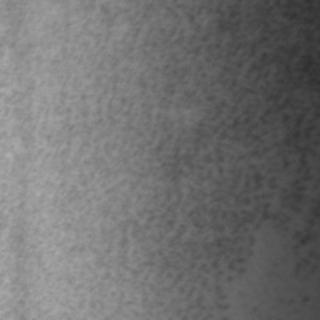pitted_surface: (72, 0, 318, 318)
